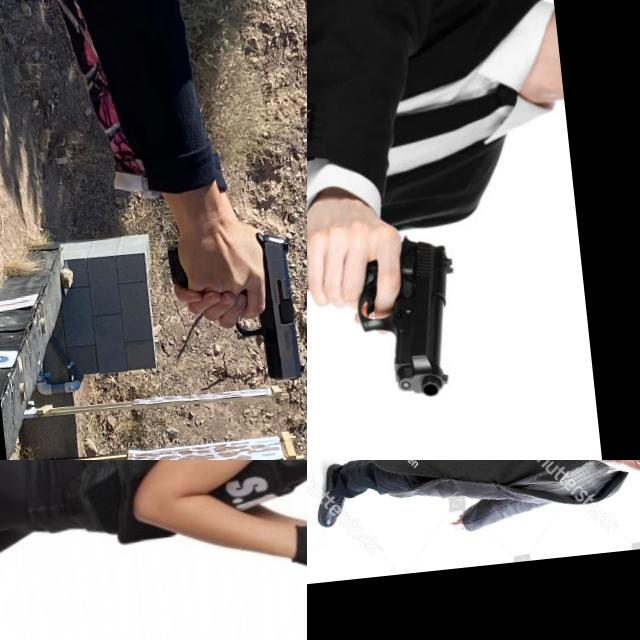handgun: (348, 224, 470, 406), (474, 460, 623, 550), (224, 227, 307, 388)
